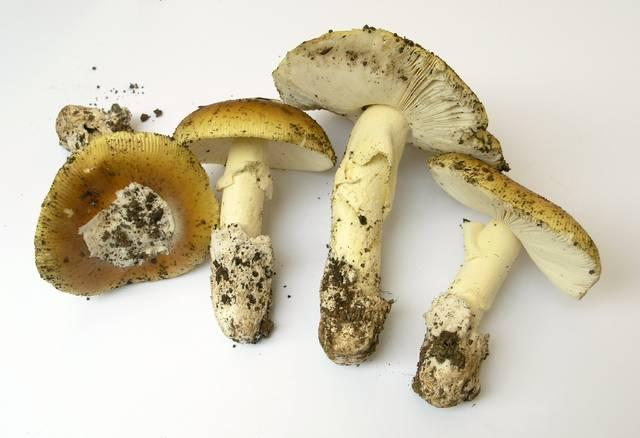edible_mushroom: (270, 24, 510, 366), (410, 150, 601, 408), (171, 96, 337, 344), (33, 129, 220, 297), (54, 102, 133, 153)
